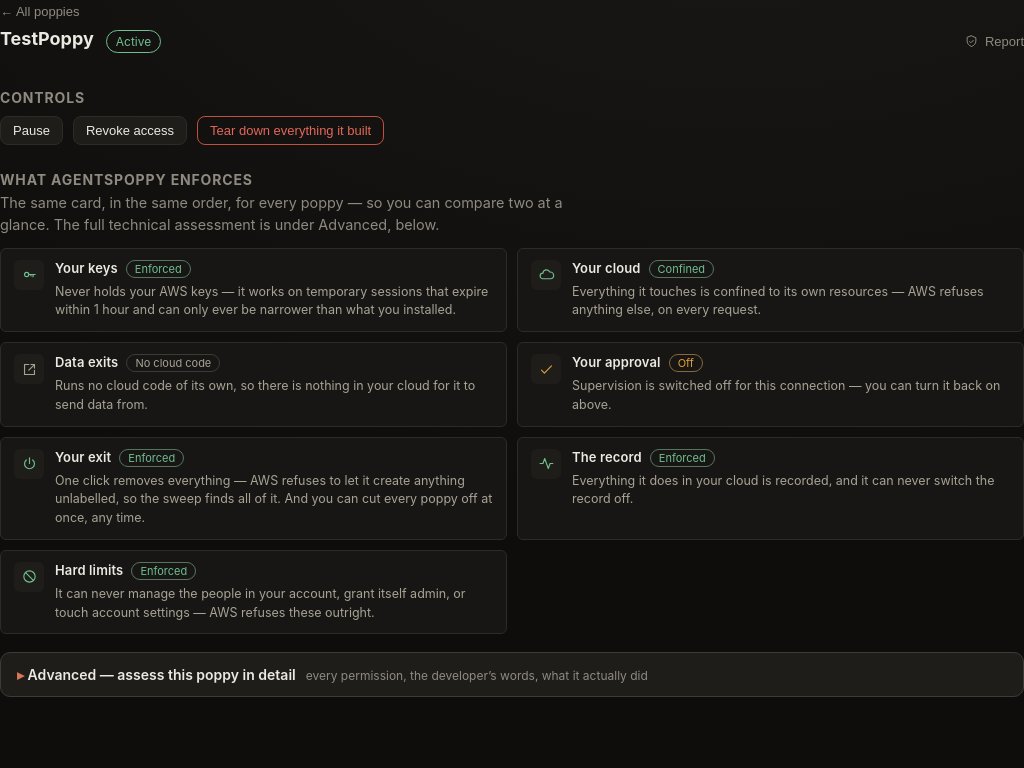
ConnectionDetailView — report a poppy › opens the report dialog and applies the chosen self-protection (pause + block)
The image size is (1024, 768).
A Report control sits beside the poppy name.
Click the button "Report" at (994, 42), box [964,34,1023,49]
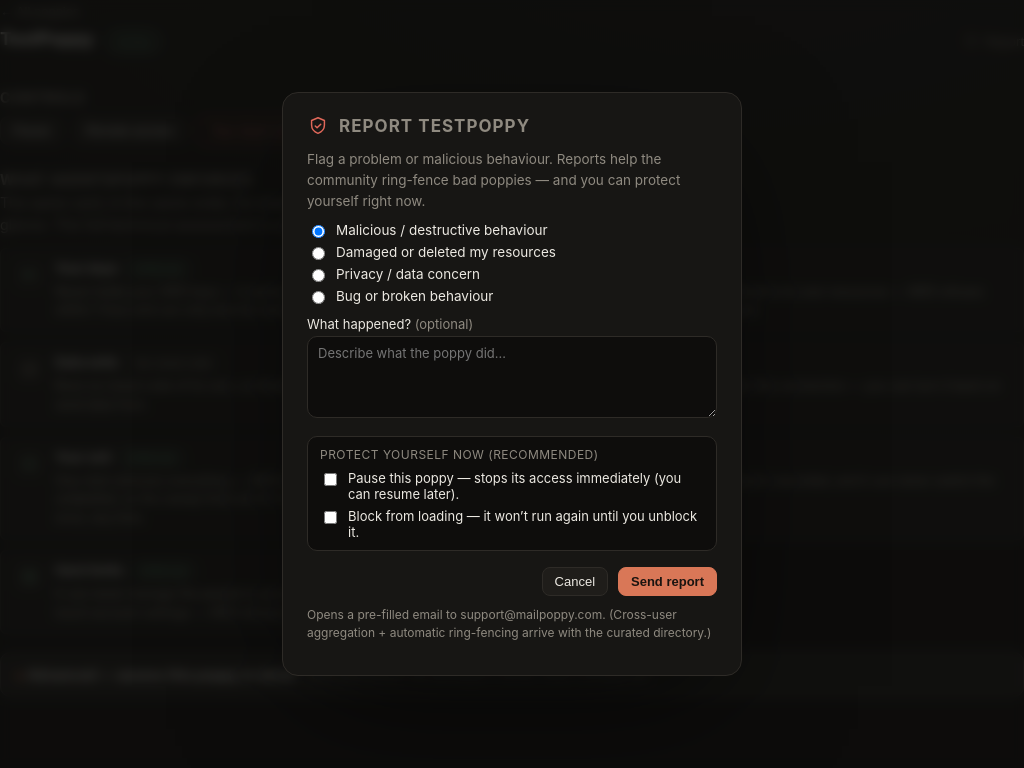
Result: the heading "Report TestPoppy" is shown at [339,116,530,136]
Tick both self-protection options, then send.
Click the checkbox labelled "Pause this poppy" at (330, 479), box [324,473,337,486]
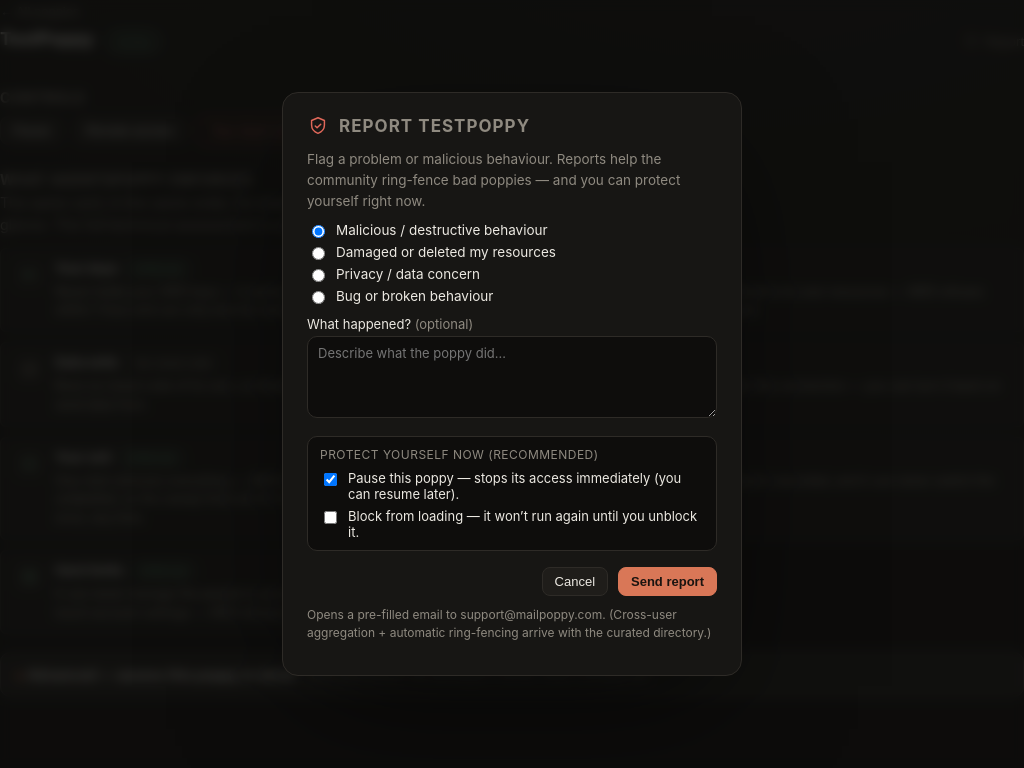
Click the checkbox labelled "Block from loading" at (330, 517), box [324,511,337,524]
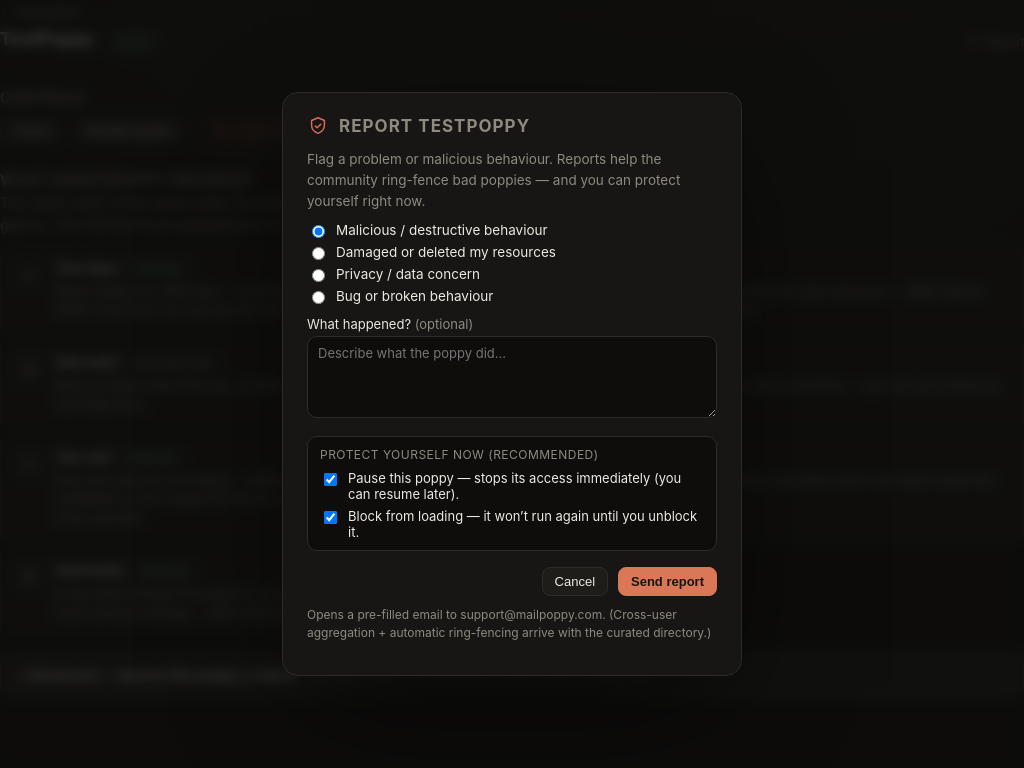
Click the button "Send report" at (668, 581), box [618,567,717,596]
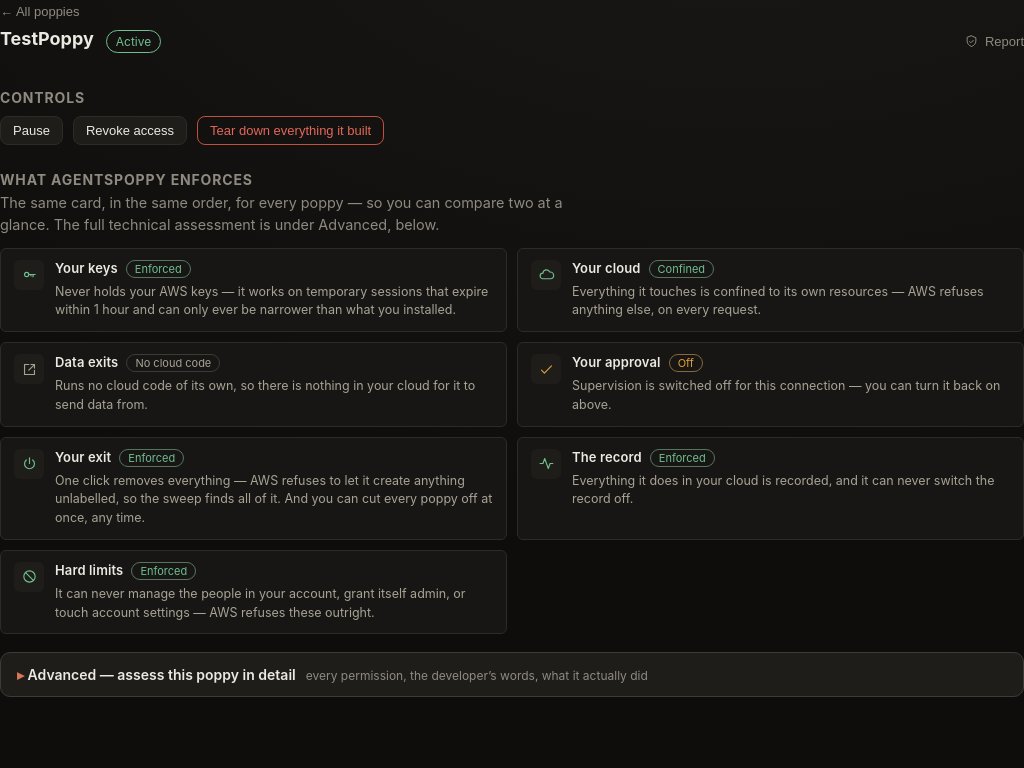
Result: the dialog is gone
